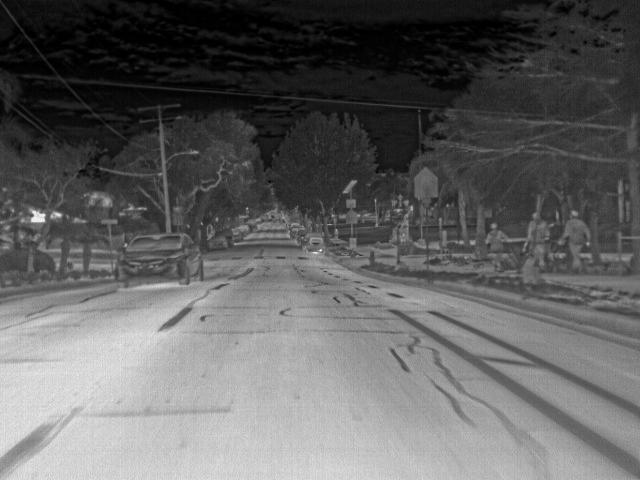car: (116, 230, 205, 287), (207, 234, 229, 250), (305, 238, 325, 251), (222, 227, 238, 243), (230, 226, 245, 241), (248, 218, 262, 232), (288, 222, 306, 232), (298, 232, 312, 244), (241, 223, 254, 235), (289, 228, 303, 239)
person: (563, 209, 589, 272), (527, 209, 550, 274), (485, 221, 506, 273), (332, 226, 339, 239)
